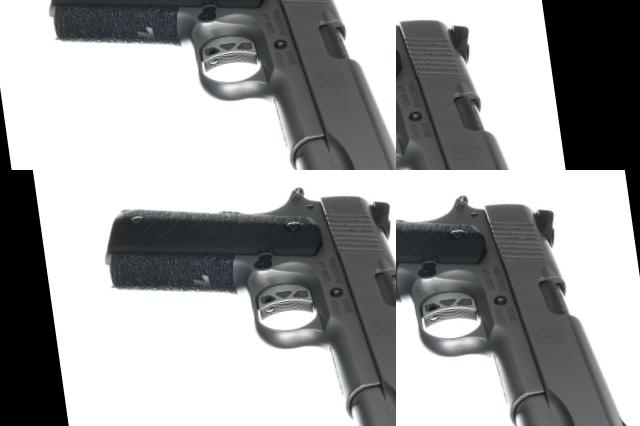handgun: (396, 170, 640, 426), (192, 170, 296, 335), (396, 0, 465, 137), (223, 0, 292, 20)
